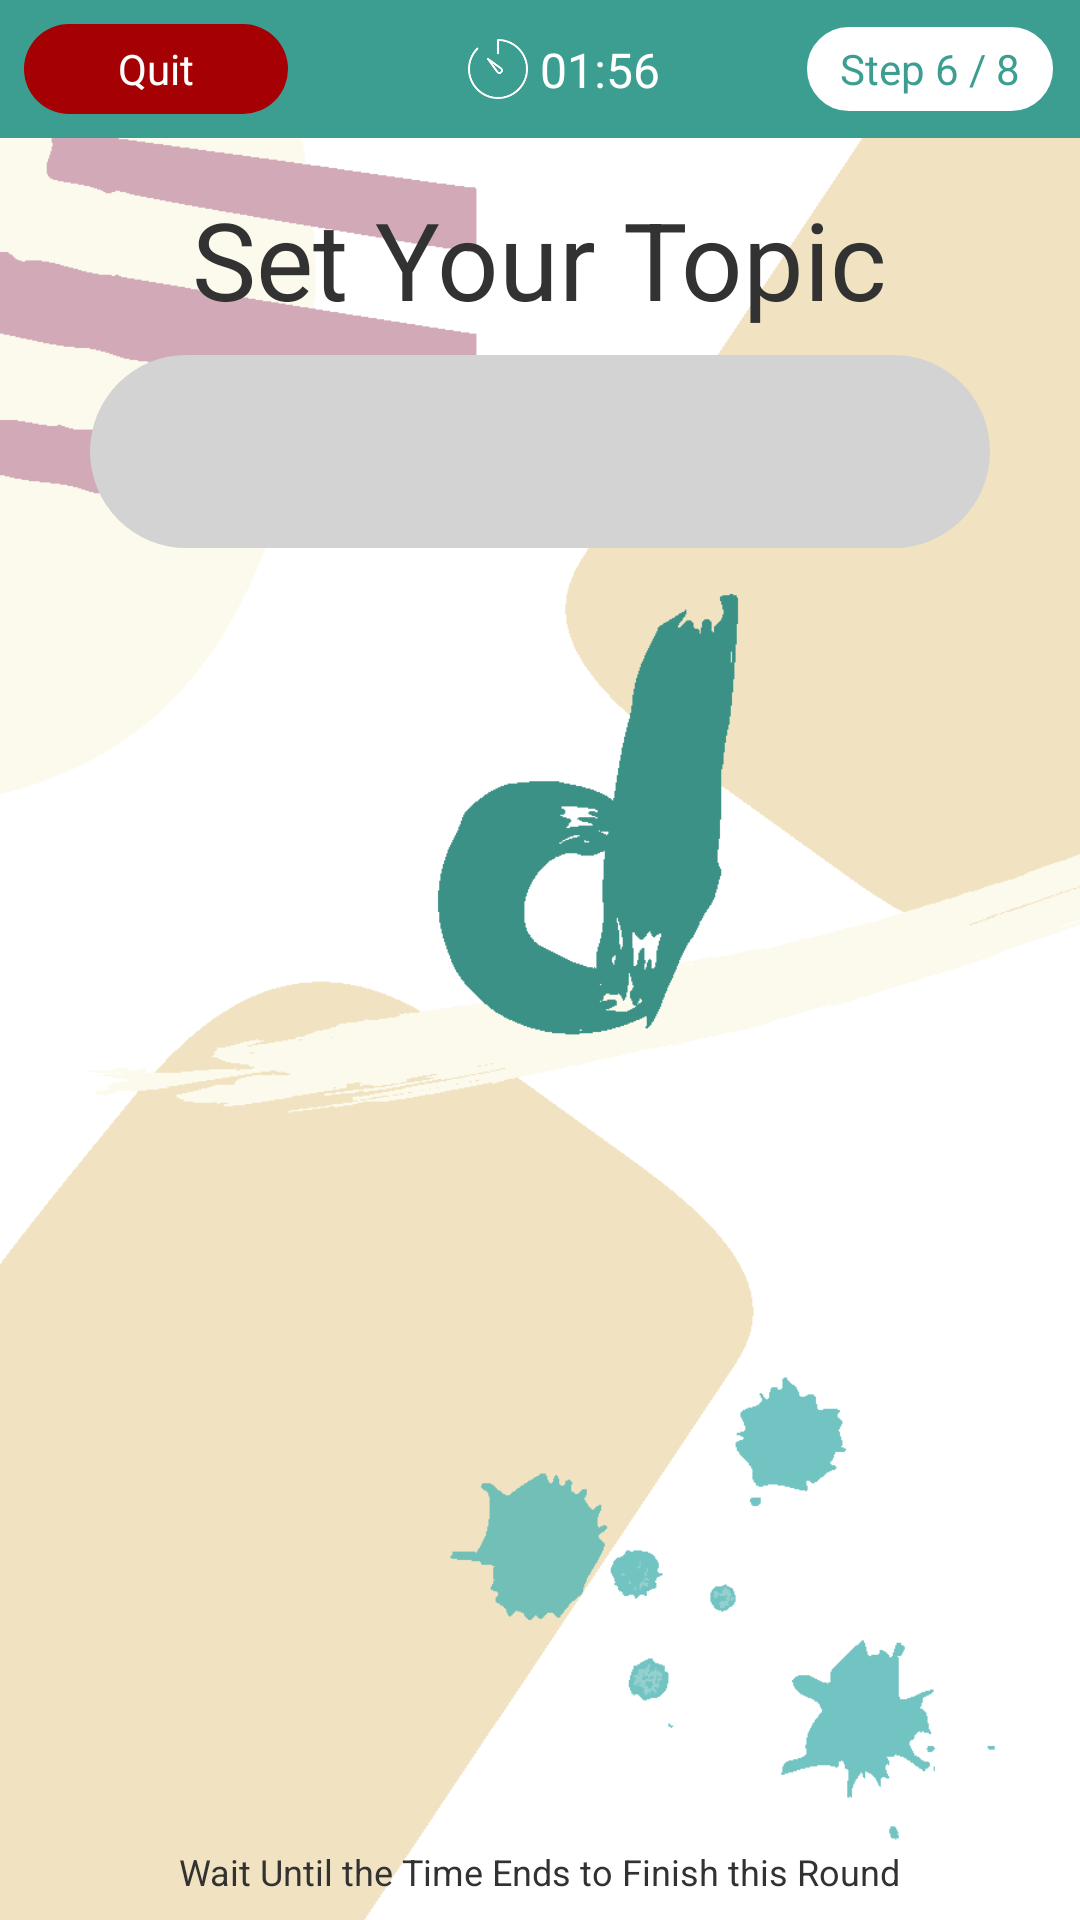

Named icons in this screenshot (1080px x 1920px) and their centers, (x,y):
timer: (498,69)
